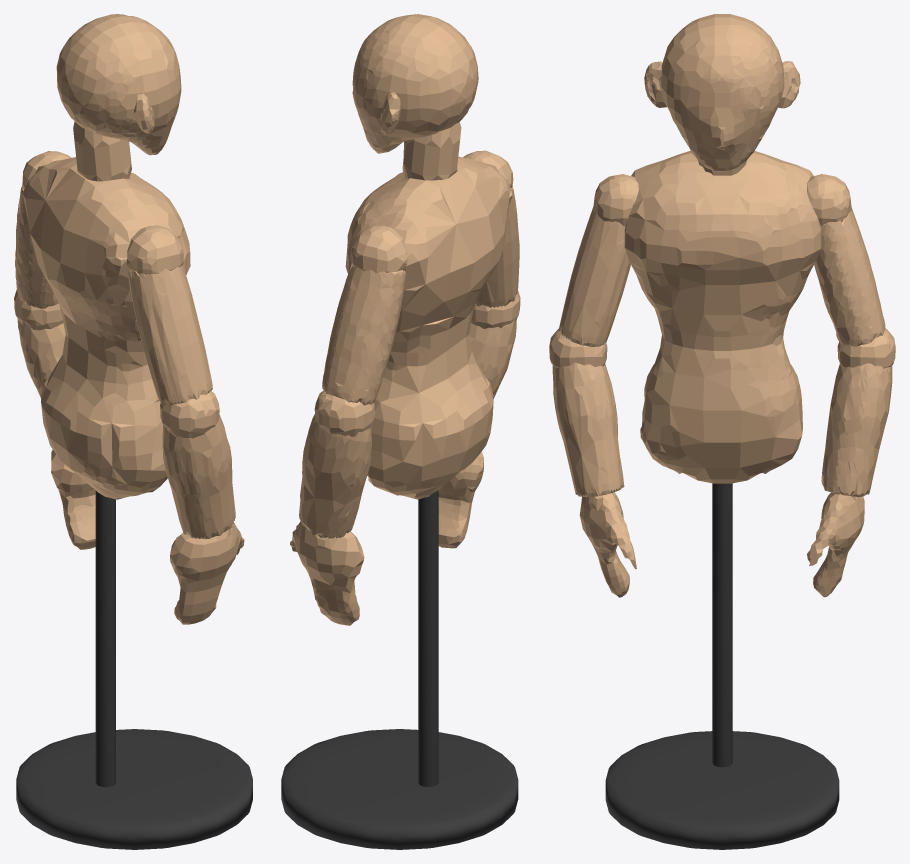
File: Manekinie.fbx
3 renders of one model, left to right at view 1: azimuth 30°, elevation 25°; view 2: azimuth 150°, elevation 25°; view 3: azimuth 270°, elevation 25°, orthographic.
Visible parts, largest first — view 1: Icosphere.003, Cylinder.001, Icosphere, ARMAA, ARMAA.001, Cube.002, Cylinder, Cube.001, Cube, Icosphere.002, Icosphere.008; view 2: Icosphere.003, Cylinder.001, Icosphere, ARMAA, ARMAA.001, Cube.002, Cylinder, Cube.001, Cube, Icosphere.002, Icosphere.008; view 3: Icosphere.003, Cylinder.001, Icosphere, ARMAA.001, ARMAA, Cube.002, Cylinder, Cube, Cube.001, Icosphere.008.
Part boxes in pixels (x1,y1,x2,y2): Icosphere.003: (22, 157, 190, 499); Cylinder.001: (16, 729, 252, 849); Icosphere: (56, 14, 181, 155); ARMAA: (15, 185, 212, 405); ARMAA.001: (17, 319, 235, 539); Cube.002: (51, 449, 244, 624); Cylinder: (95, 490, 115, 787); Cube.001: (14, 289, 219, 438); Cube: (22, 151, 183, 274); Icosphere.002: (73, 121, 131, 181); Icosphere.008: (134, 93, 154, 133); Icosphere.003: (345, 156, 512, 499); Cylinder.001: (281, 729, 518, 849); Icosphere: (352, 14, 478, 153); ARMAA: (322, 185, 519, 405); ARMAA.001: (299, 319, 516, 538); Cube.002: (290, 451, 483, 625); Cylinder: (418, 490, 438, 787); Cube.001: (314, 290, 520, 436); Cube: (350, 150, 513, 272); Icosphere.002: (402, 122, 461, 180); Icosphere.008: (380, 92, 400, 134); Icosphere.003: (624, 151, 821, 483); Cylinder.001: (605, 731, 839, 849); Icosphere: (661, 14, 784, 171); ARMAA.001: (552, 362, 892, 496); ARMAA: (558, 207, 885, 346); Cube.002: (579, 492, 864, 597); Cylinder: (712, 483, 732, 767); Cube: (593, 174, 851, 226); Cube.001: (549, 328, 895, 368); Icosphere.008: (644, 61, 800, 108).
Size of the model in its own units: 354 by 1298 by 525.
